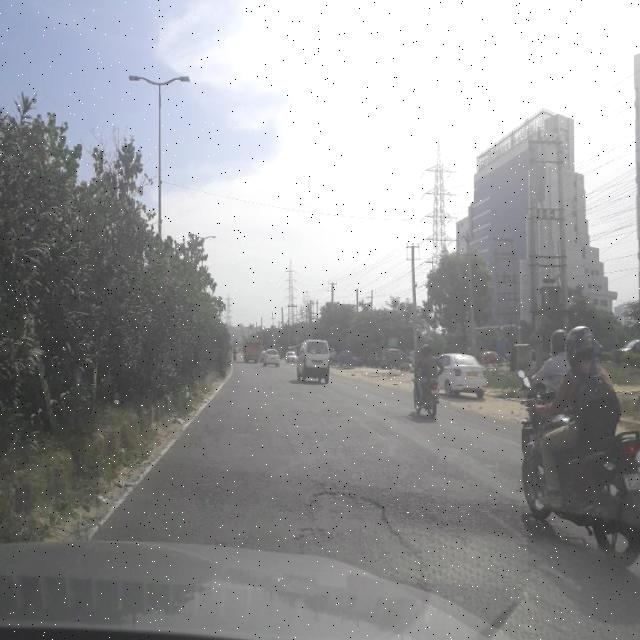D00: (146, 411, 213, 529), (274, 388, 306, 474)
D20: (160, 452, 277, 534)
D40: (273, 466, 435, 586)
